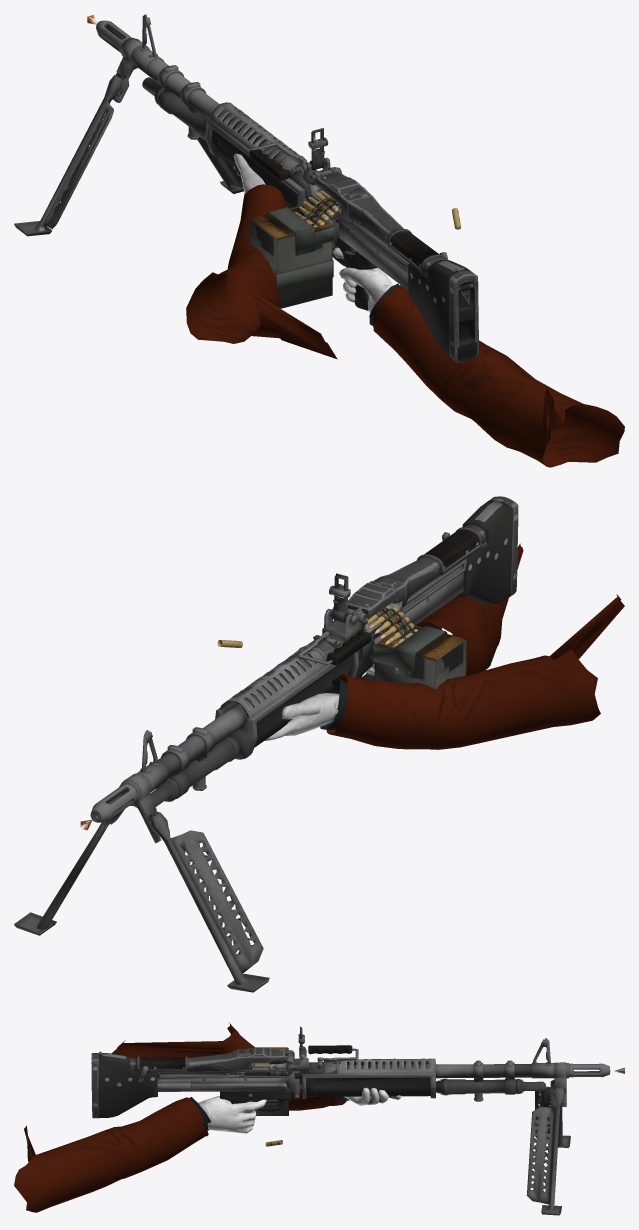
The model's file is frame_0009.obj.
3 renders of one model, top to bottom at view 1: azimuth 30°, elevation 25°; view 2: azimuth 150°, elevation 25°; view 3: azimuth 270°, elevation 25°, orthographic. The views are drawn at different scales.
Visible parts, largest first — view 1: Mesh.005, PlayerModelMerged.001_PlayerModelMerged, Mesh.001; view 2: Mesh.005, PlayerModelMerged.001_PlayerModelMerged, Mesh.001; view 3: Mesh.005, PlayerModelMerged.001_PlayerModelMerged.
Boxes of the visible parts, x1,y1,x2,y2 form: Mesh.005: (14, 14, 478, 362); PlayerModelMerged.001_PlayerModelMerged: (186, 153, 624, 467); Mesh.001: (295, 191, 339, 227); Mesh.005: (14, 496, 518, 992); PlayerModelMerged.001_PlayerModelMerged: (264, 543, 624, 749); Mesh.001: (367, 605, 417, 646); Mesh.005: (91, 1026, 610, 1215); PlayerModelMerged.001_PlayerModelMerged: (14, 1023, 401, 1212).
Bounding box in the file's own units: 0.9945 × 0.6822 × 2.43.
